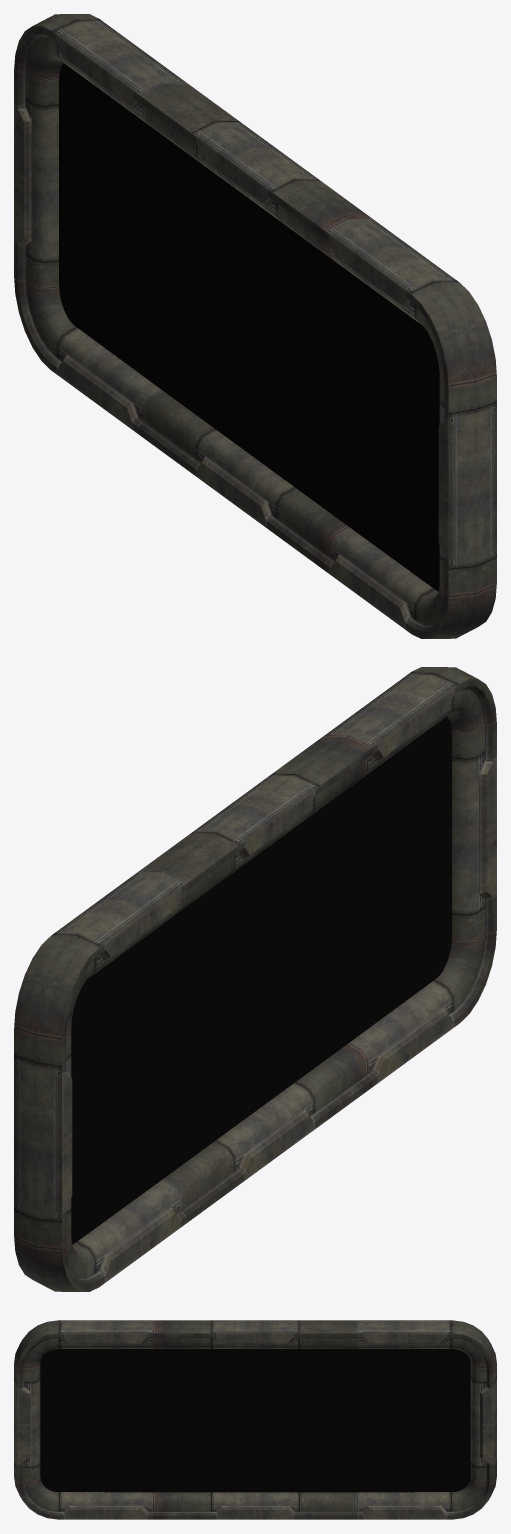
The model's file is pplant_windowframe_large_broken.dae.
The picture shows the model from 3 angles, top to bottom: view 1: azimuth 30°, elevation 25°; view 2: azimuth 150°, elevation 25°; view 3: azimuth 270°, elevation 25°; orthographic projection. The views are drawn at different scales.
Visible parts, largest first — view 1: polySurface1, bulkhead_windowframe_large; view 2: polySurface1, bulkhead_windowframe_large; view 3: polySurface1, bulkhead_windowframe_large.
Boxes of the visible parts, box(x1,y1,x2,y2) form: polySurface1: box(59, 63, 439, 591); bulkhead_windowframe_large: box(14, 14, 496, 638); polySurface1: box(71, 716, 451, 1244); bulkhead_windowframe_large: box(14, 667, 496, 1291); polySurface1: box(40, 1349, 470, 1492); bulkhead_windowframe_large: box(14, 1320, 496, 1519).
Bounding box in the file's own units: 0.4087 × 2.84 × 6.46.
